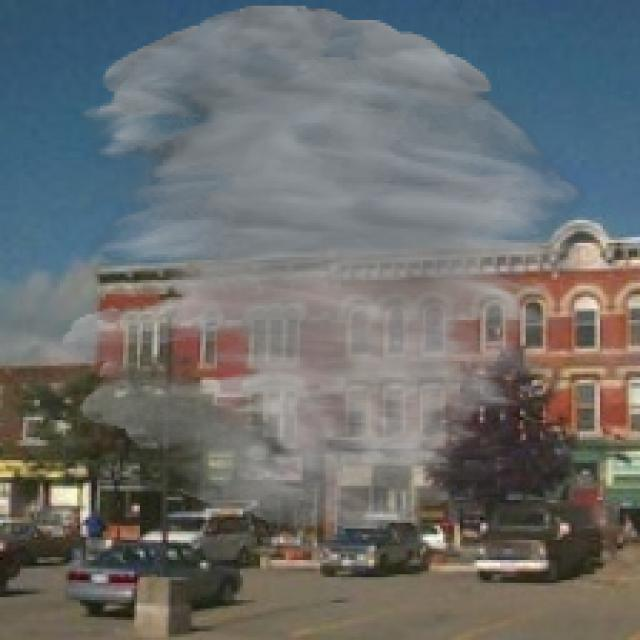Smoke: (60, 6, 589, 532)
